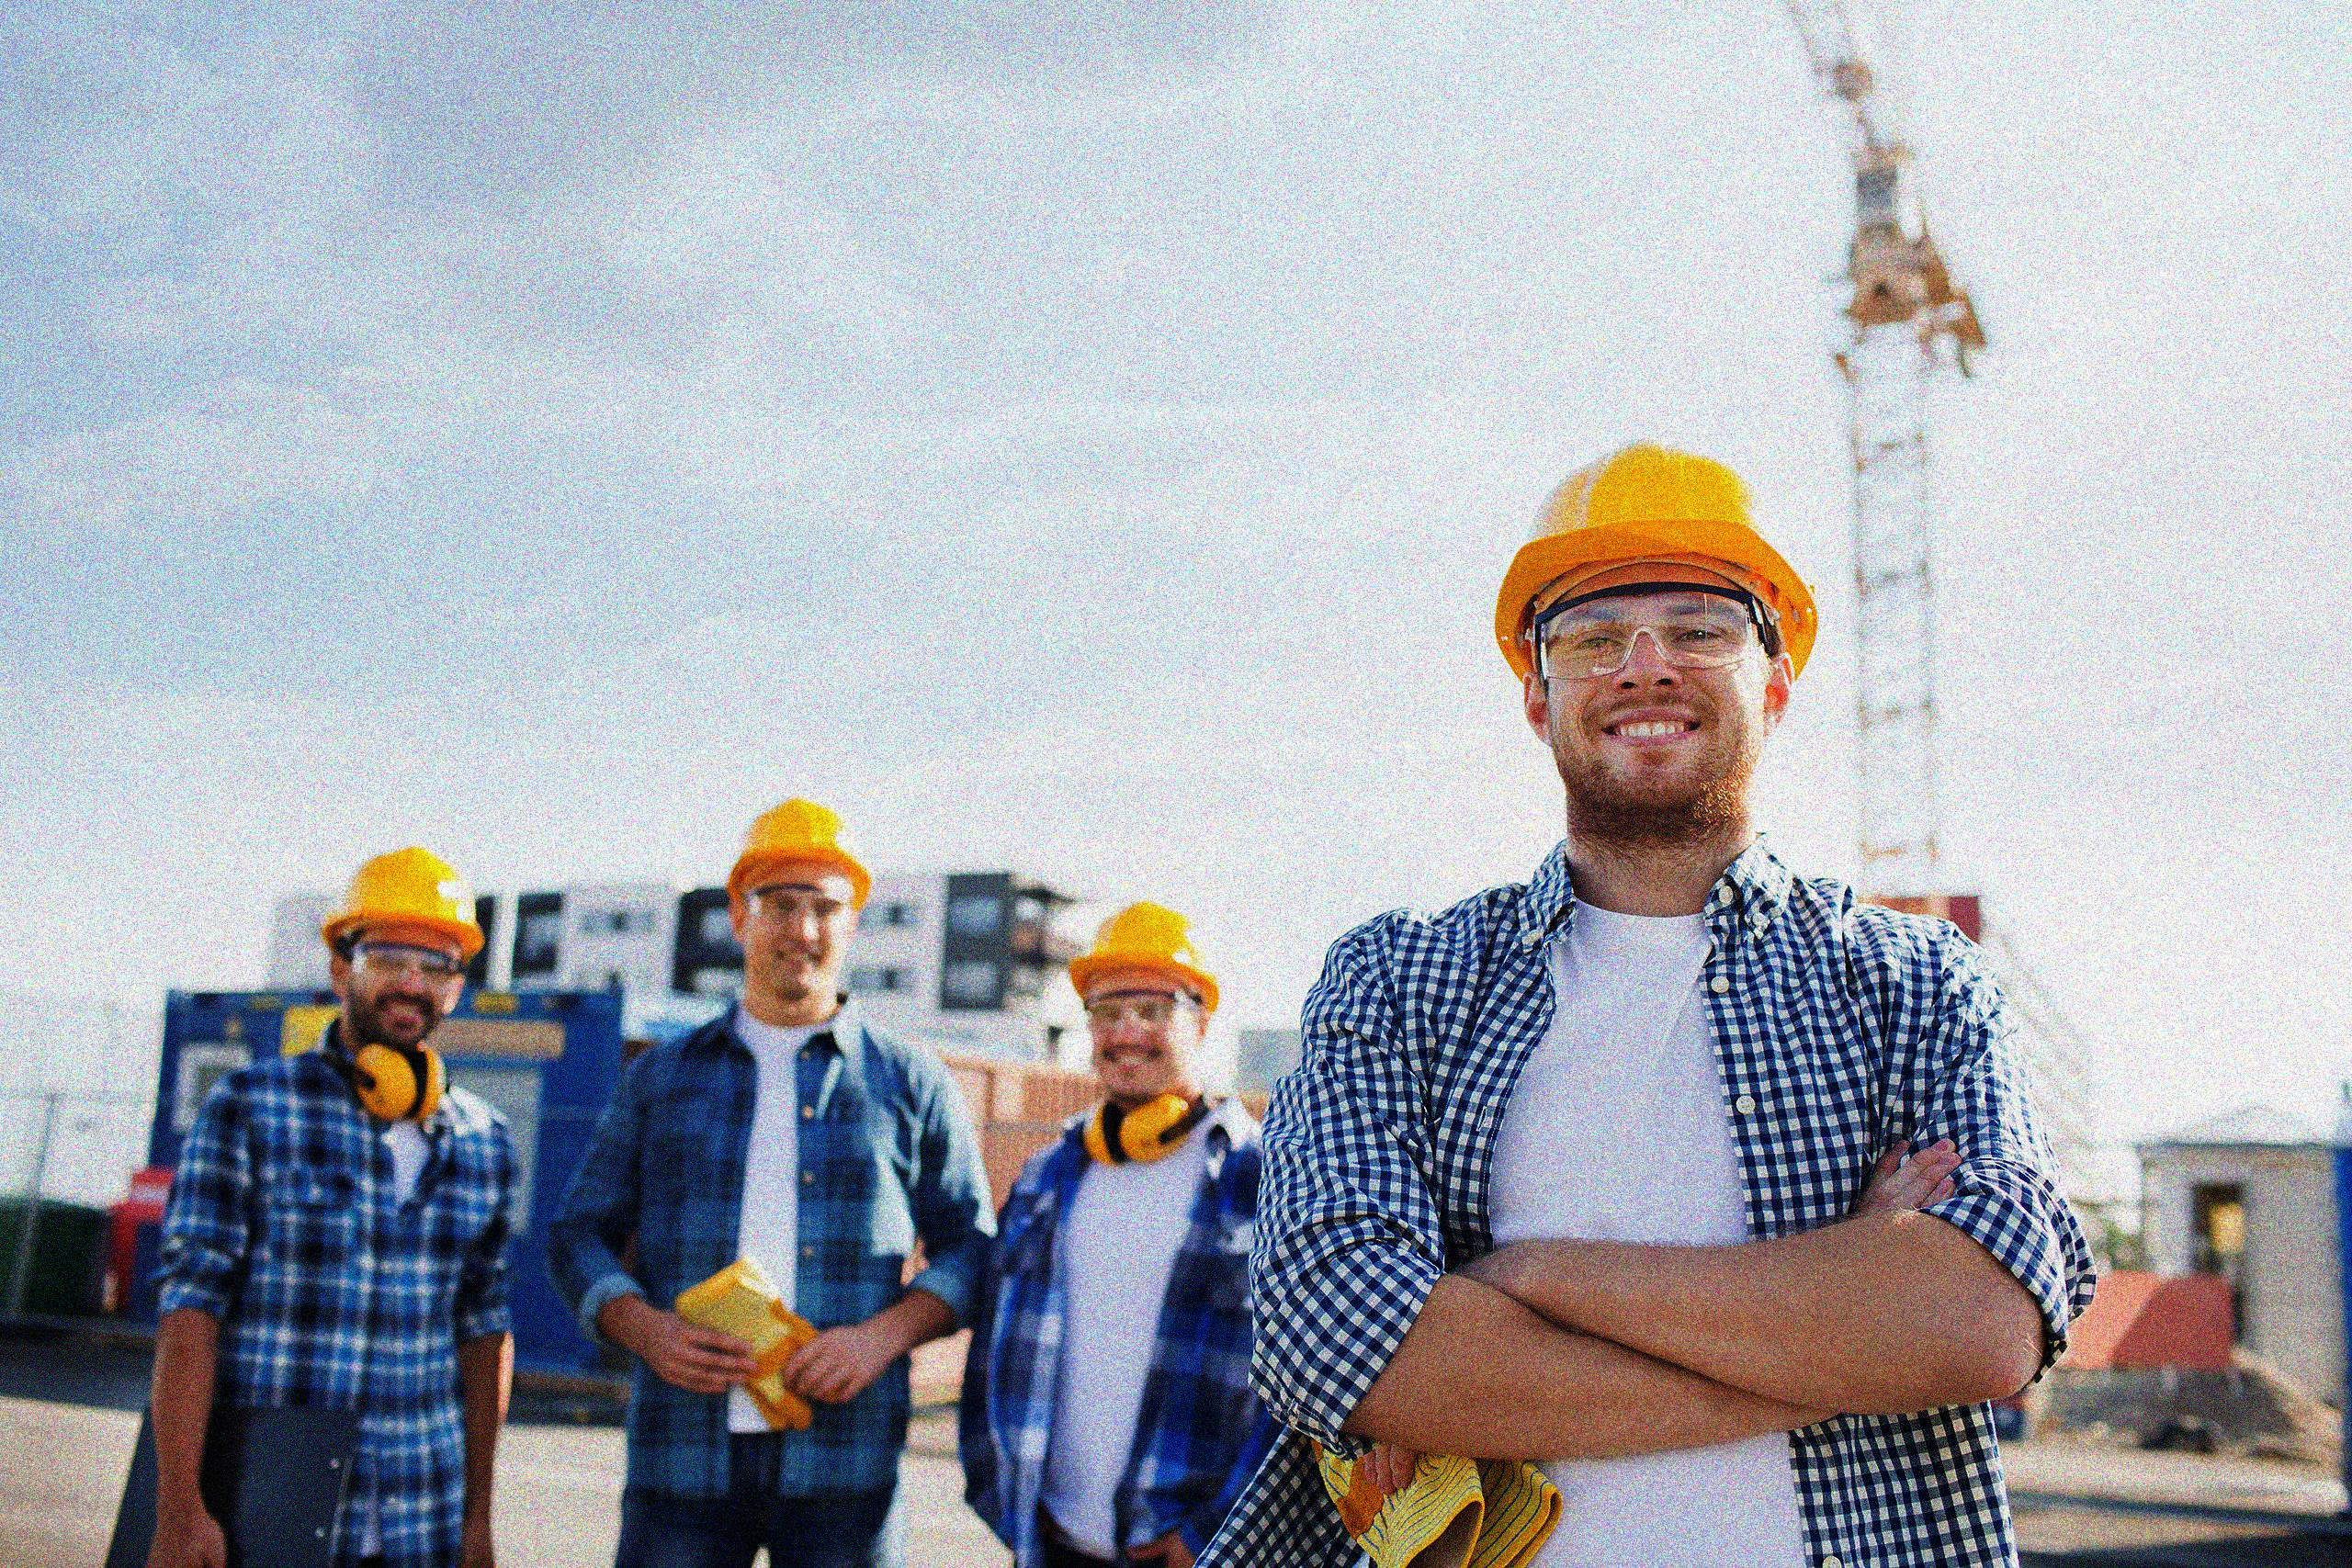helmet: (1486, 434, 1823, 828), (315, 840, 490, 1059), (1067, 898, 1228, 1102), (721, 794, 877, 1004)
